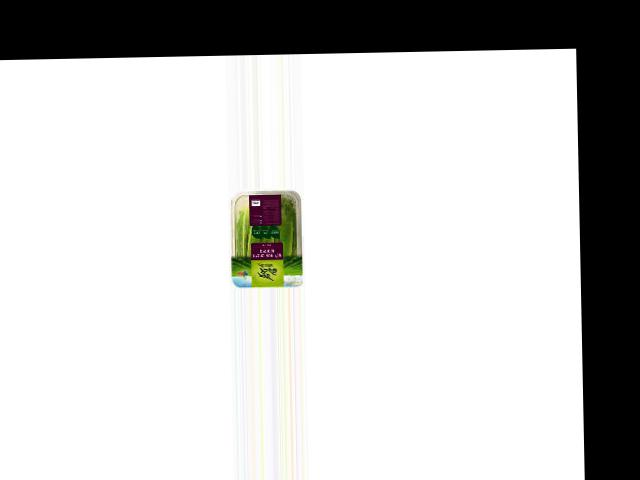lettuce: (228, 189, 302, 281)
